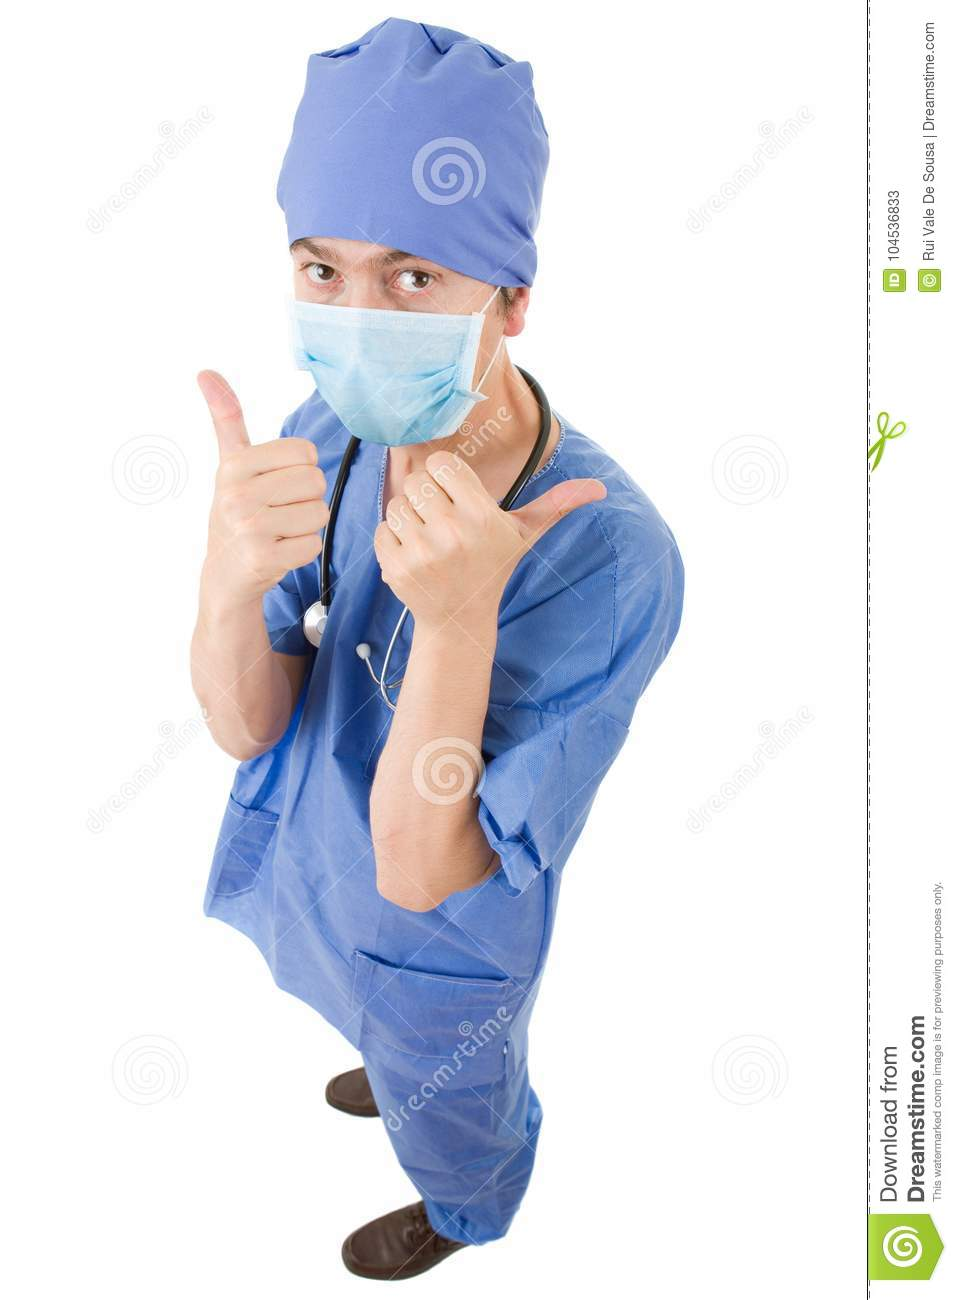mask: (286, 305, 504, 453)
